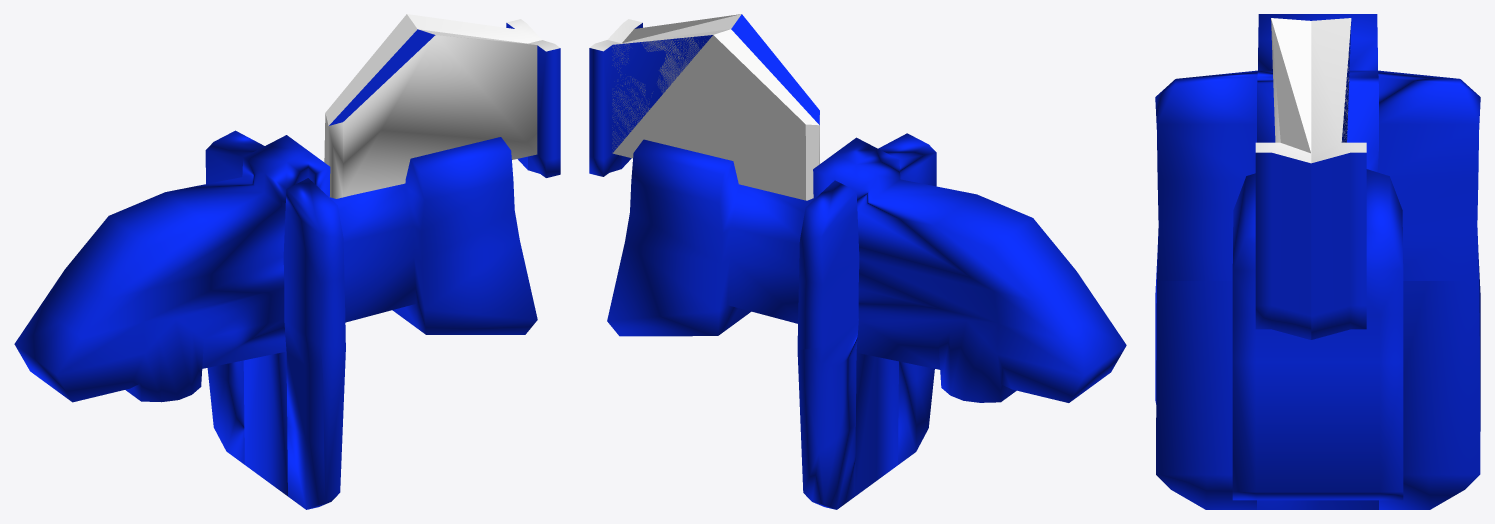
The model's file is thruster.obj.
The picture shows the model from 3 angles, left to right: view 1: azimuth 30°, elevation 25°; view 2: azimuth 150°, elevation 25°; view 3: azimuth 270°, elevation 25°; orthographic projection. The views are drawn at different scales.
Visible parts, largest first — view 1: Cabin_Plane.001_Windows.004; view 2: Cabin_Plane.001_Windows.004; view 3: Cabin_Plane.001_Windows.004.
Boxes of the visible parts, <box> form: Cabin_Plane.001_Windows.004: <box>14,14,560,509</box>; Cabin_Plane.001_Windows.004: <box>589,14,1126,509</box>; Cabin_Plane.001_Windows.004: <box>1155,14,1480,509</box>.
Size of the model in its own units: 0.7503 by 0.5981 by 0.3004.
Materials: 2 (2 with a texture image).
